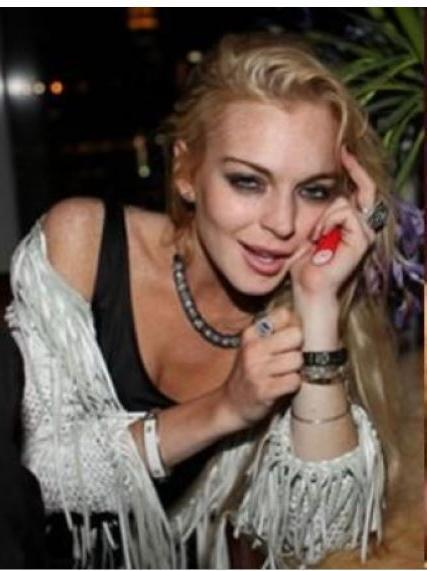Drunk: (212, 108, 336, 282)
